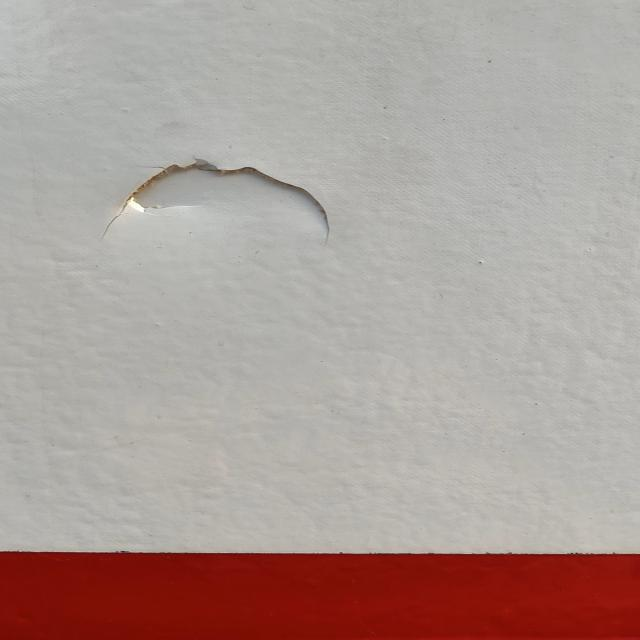Scratches: (70, 155, 336, 254)
